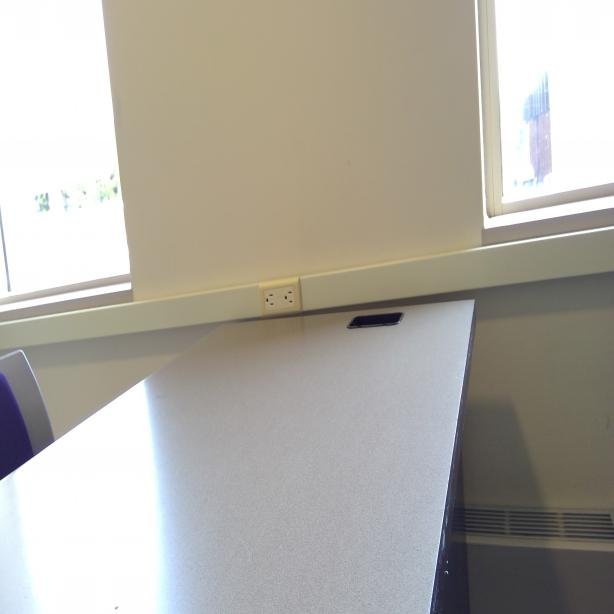typeb: (264, 289, 276, 310), (283, 289, 294, 307)
